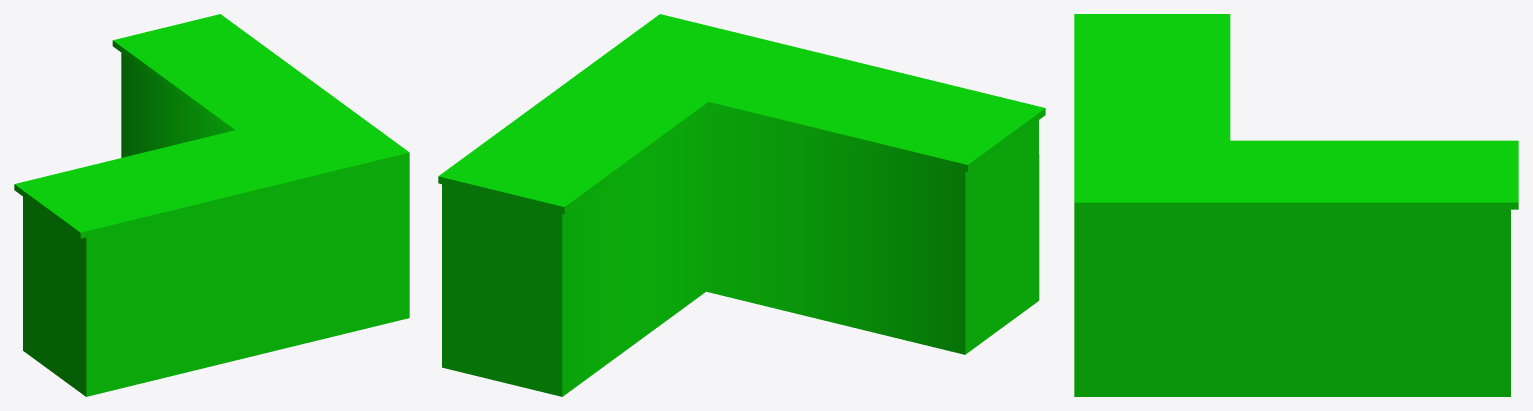
The model's file is Mesh_Countertop.fbx.
The picture shows the model from 3 angles, left to right: view 1: azimuth 30°, elevation 25°; view 2: azimuth 150°, elevation 25°; view 3: azimuth 270°, elevation 25°; orthographic projection. The views are drawn at different scales.
Visible parts, largest first — view 1: Countertop; view 2: Countertop; view 3: Countertop.
Boxes of the visible parts, x1=… form: Countertop: x1=14, y1=14, x2=409, y2=396; Countertop: x1=438, y1=14, x2=1045, y2=396; Countertop: x1=1074, y1=14, x2=1518, y2=396.
Size of the model in its own units: 11026 by 5303 by 10983.
